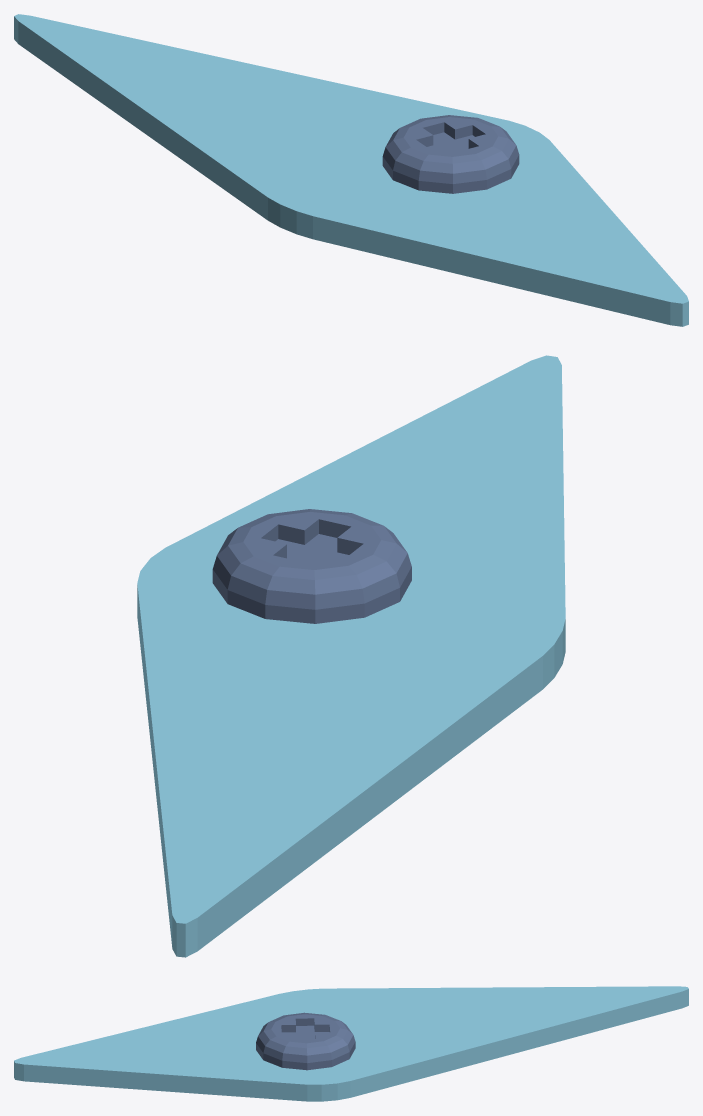
The model's file is ABackWingR.fbx.
3 renders of one model, top to bottom at view 1: azimuth 30°, elevation 25°; view 2: azimuth 150°, elevation 25°; view 3: azimuth 270°, elevation 25°, orthographic. The views are drawn at different scales.
Parts seen in each view (by area): view 1: ABackWing.R; view 2: ABackWing.R; view 3: ABackWing.R.
Part boxes in pixels (<box>): ABackWing.R: <box>14,14,688,326</box>; ABackWing.R: <box>137,355,565,957</box>; ABackWing.R: <box>14,986,688,1101</box>.
Size of the model in its own units: 151 by 26.75 by 438.
